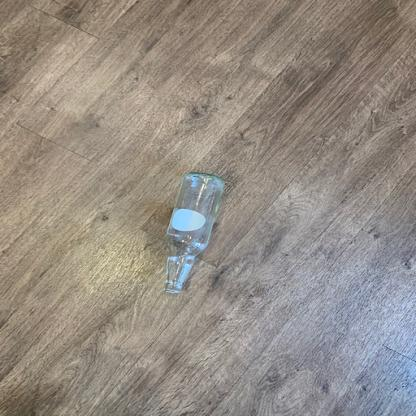trash: (158, 172, 229, 296)
